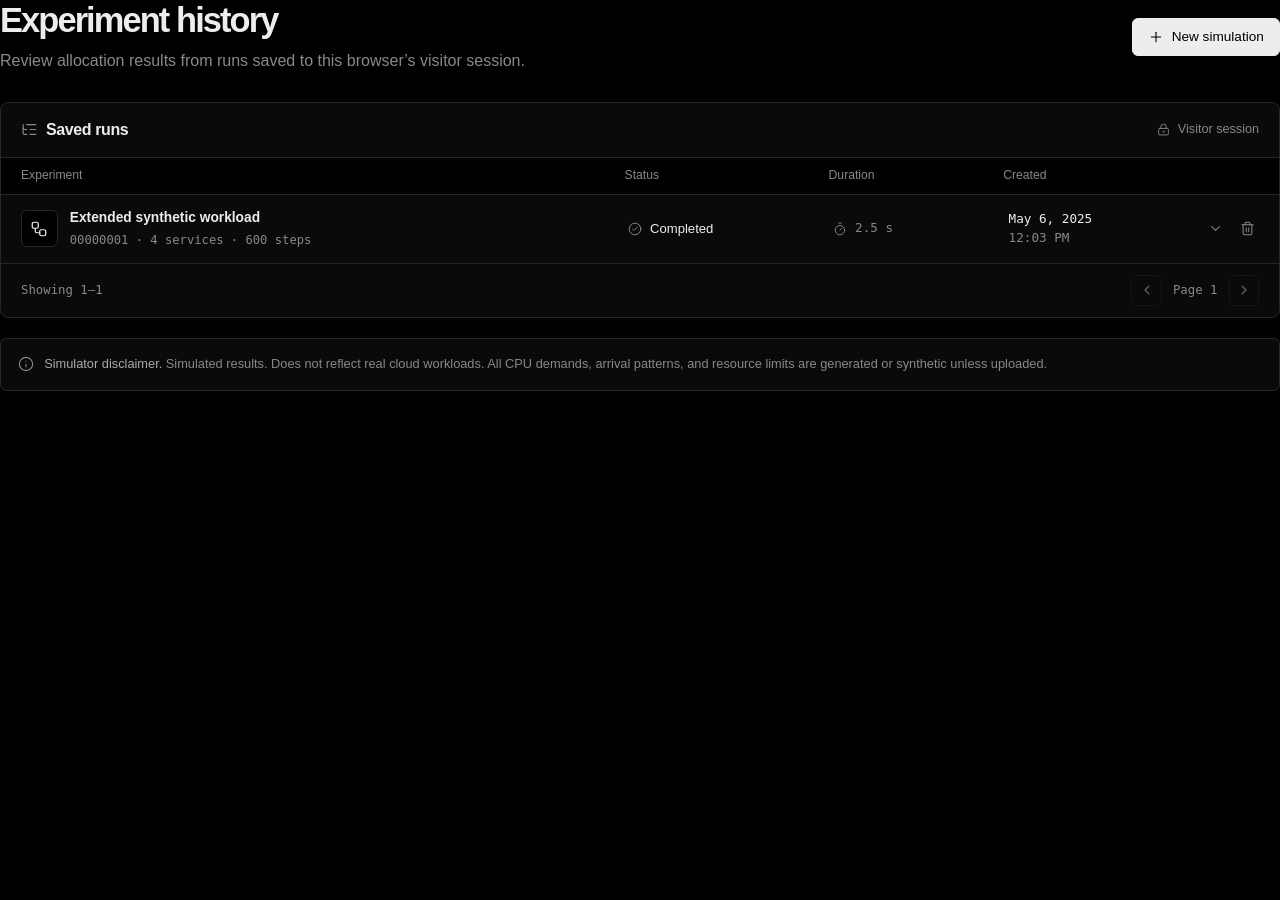
Scenario: HistoryPage › fetches and renders full extended-v1 results only after expanding
Later steps or results of the test are not shown.
Click the button with aria-label "Expand run 00000001-dcaf-4020-9beb-6afe8acfd369": [39, 229] box [21, 194, 1224, 263]
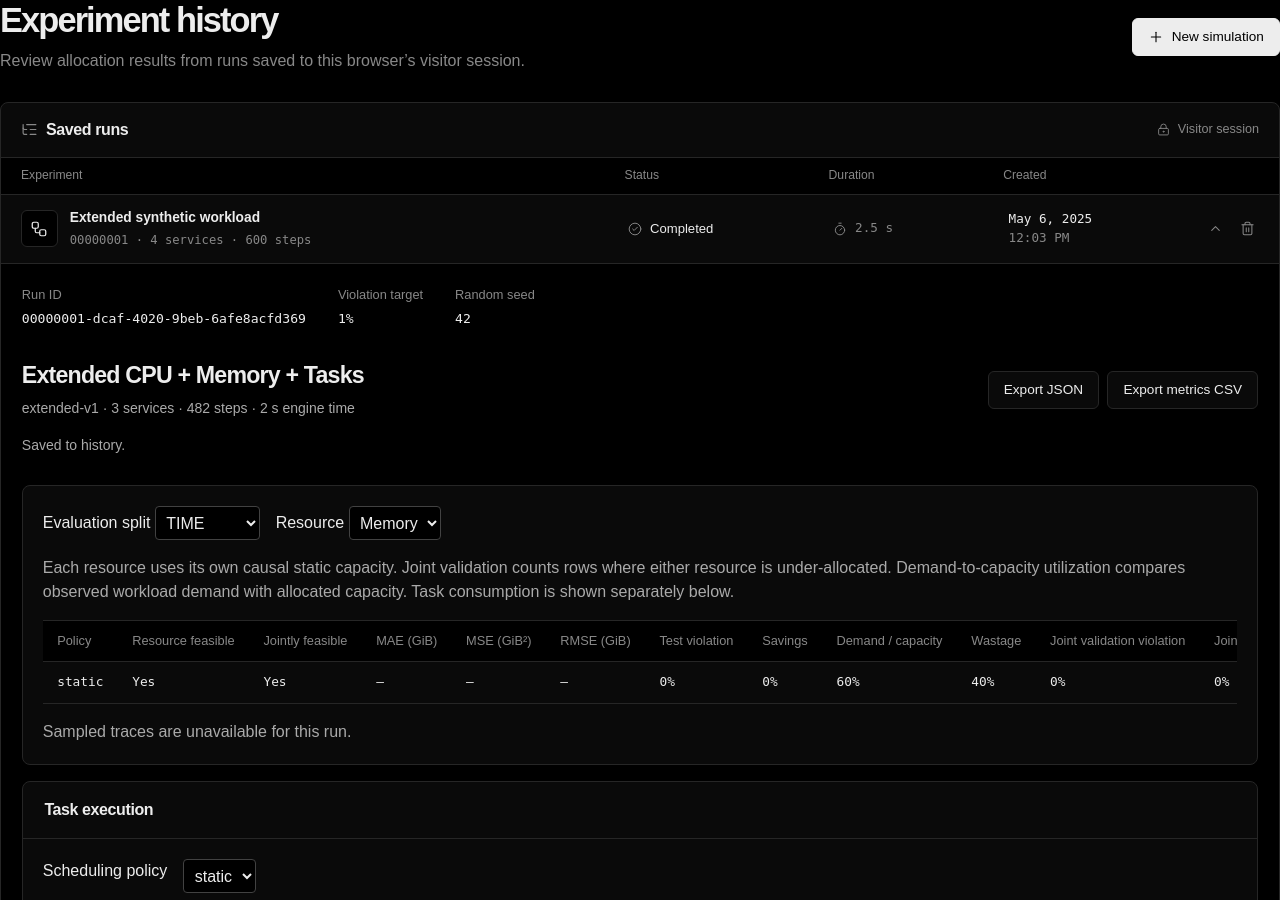
Expected: the heading "Extended CPU + Memory + Tasks" is shown, [22, 361, 364, 390]
